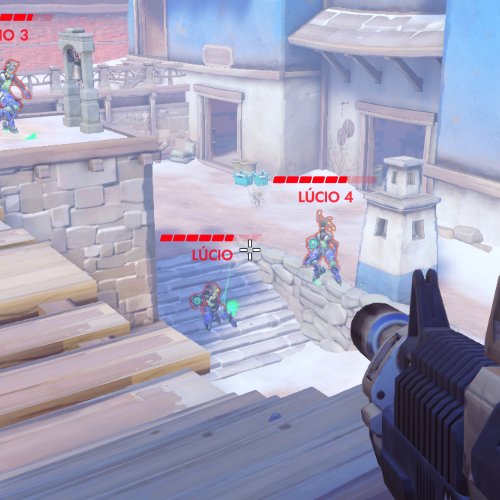hpbar: (159, 233, 264, 243), (272, 175, 378, 184), (1, 12, 54, 22)
